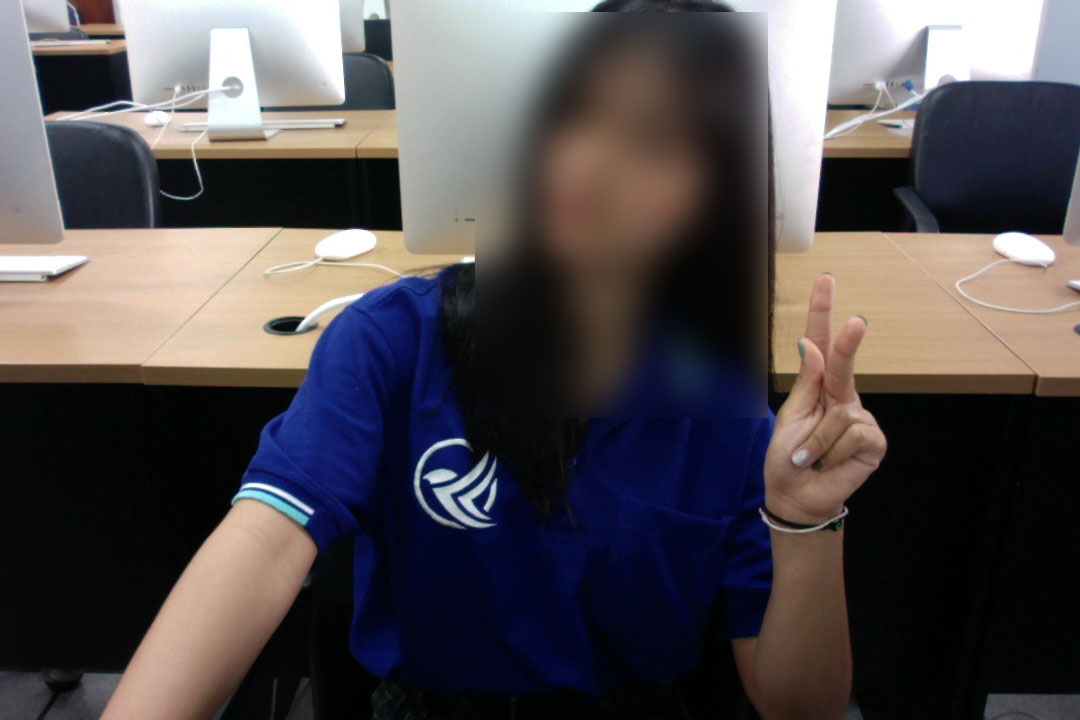ko: (731, 265, 892, 518)
